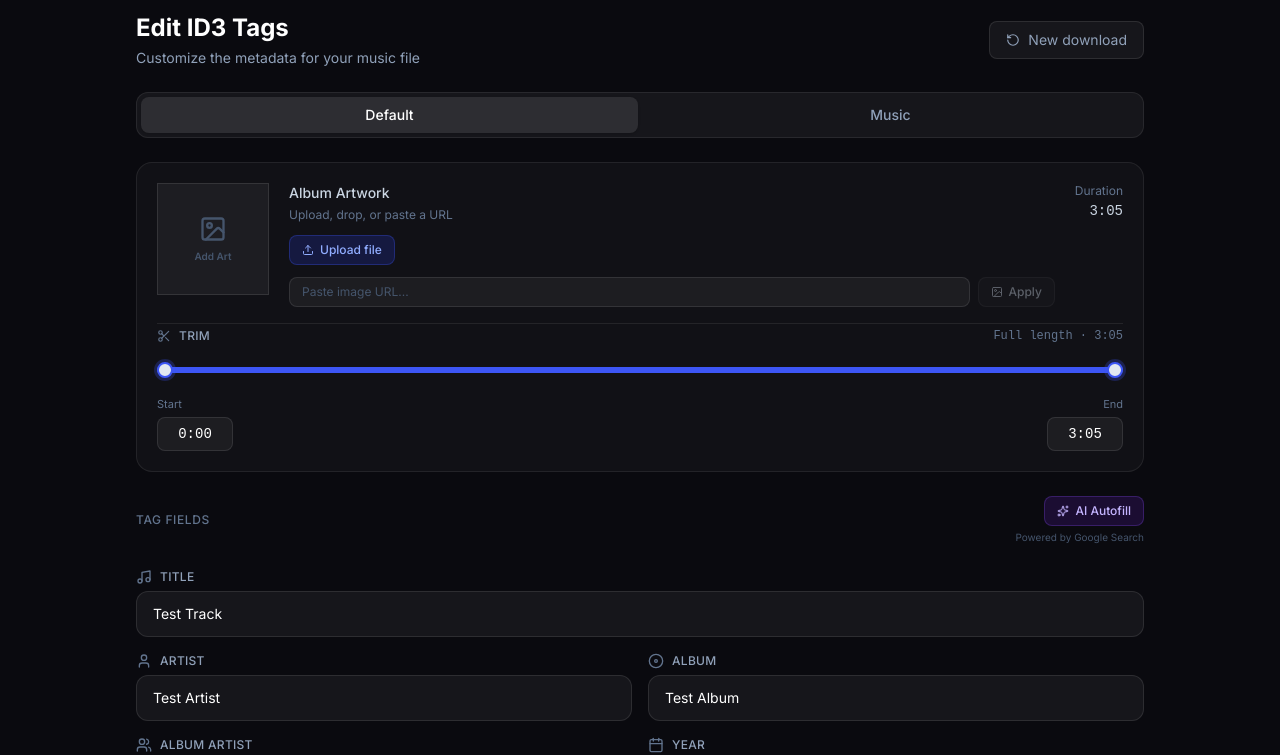
Test: TagEditor album art URL input › clears the error when the user types in the URL field after a failure
In the field with placeholder "Paste image URL...": coordinates (629, 292) [289,277,970,307], type "https://bad.example.com/img.jpg"
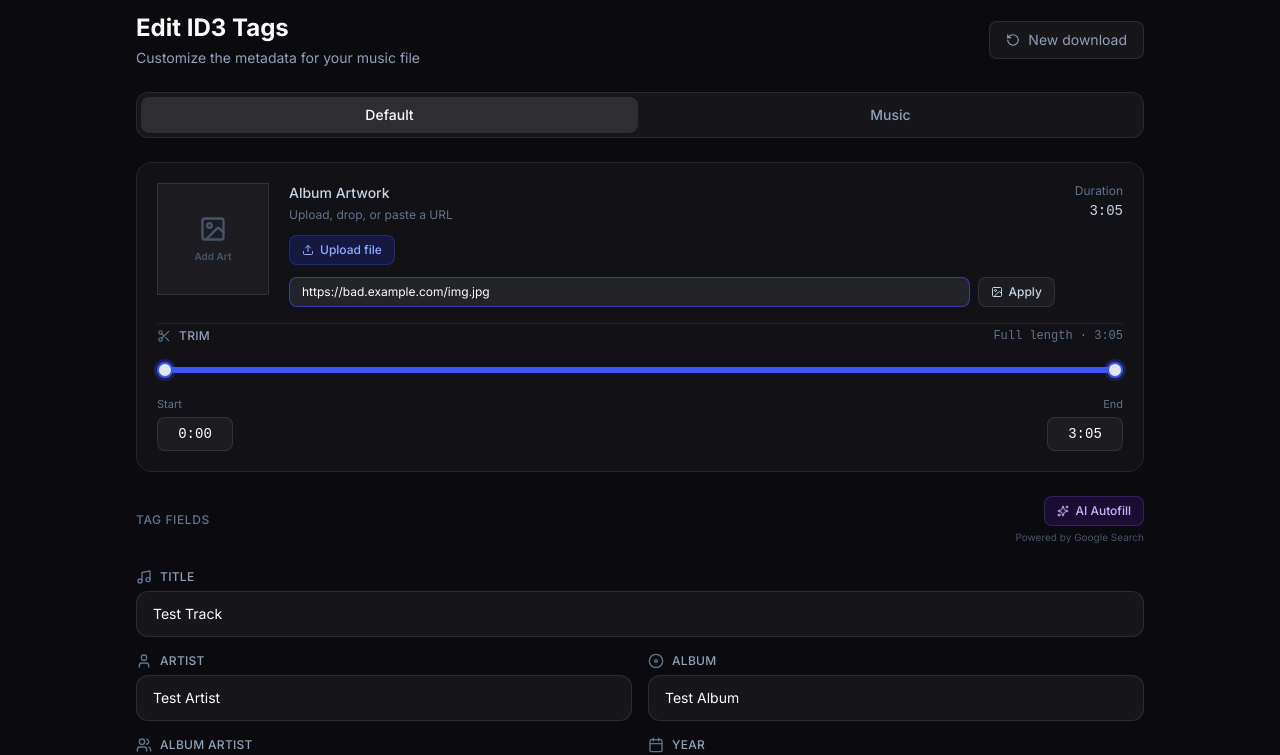
Click the button "Apply": coordinates (1016, 292) [978,277,1055,307]
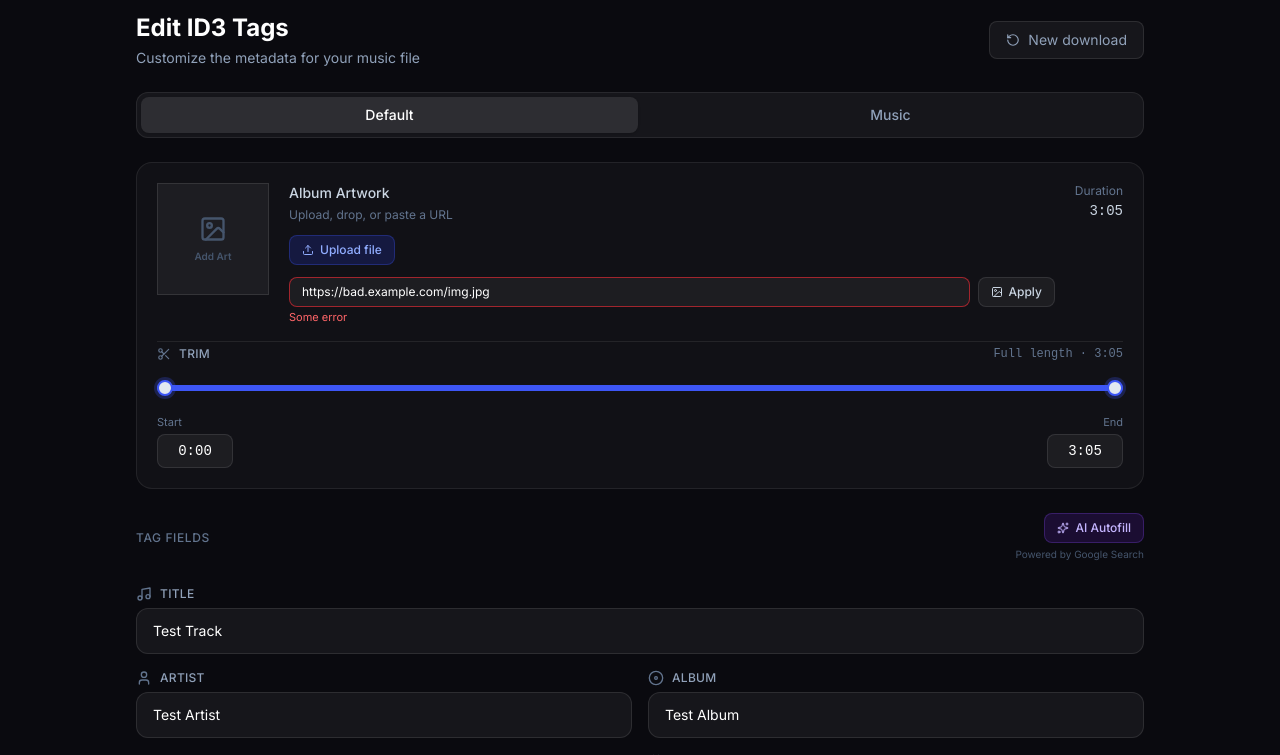
Check: the text "Some error" is shown, box [289,310,347,324]
In the field with placeholder "Paste image URL..." below "Upload, drop, or paste a URL": coordinates (629, 292) [289,277,970,307], type "a"
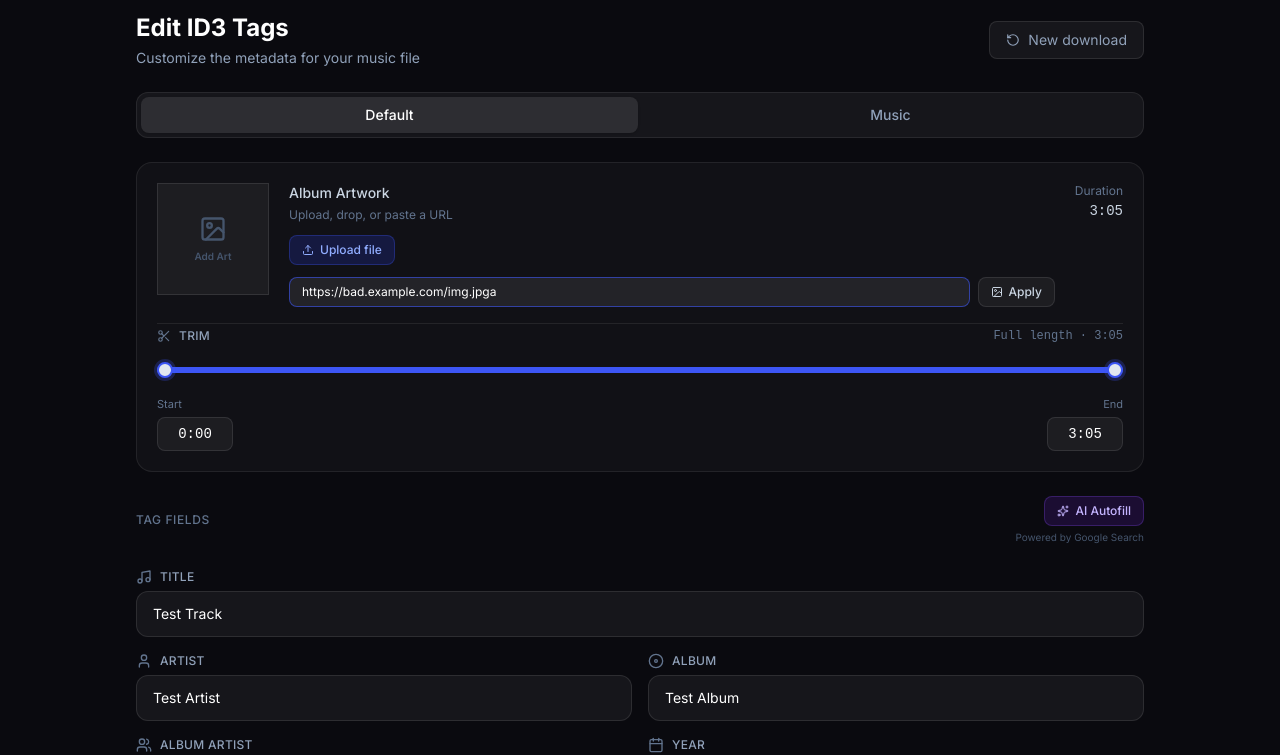
Check: the text "Some error" is gone
